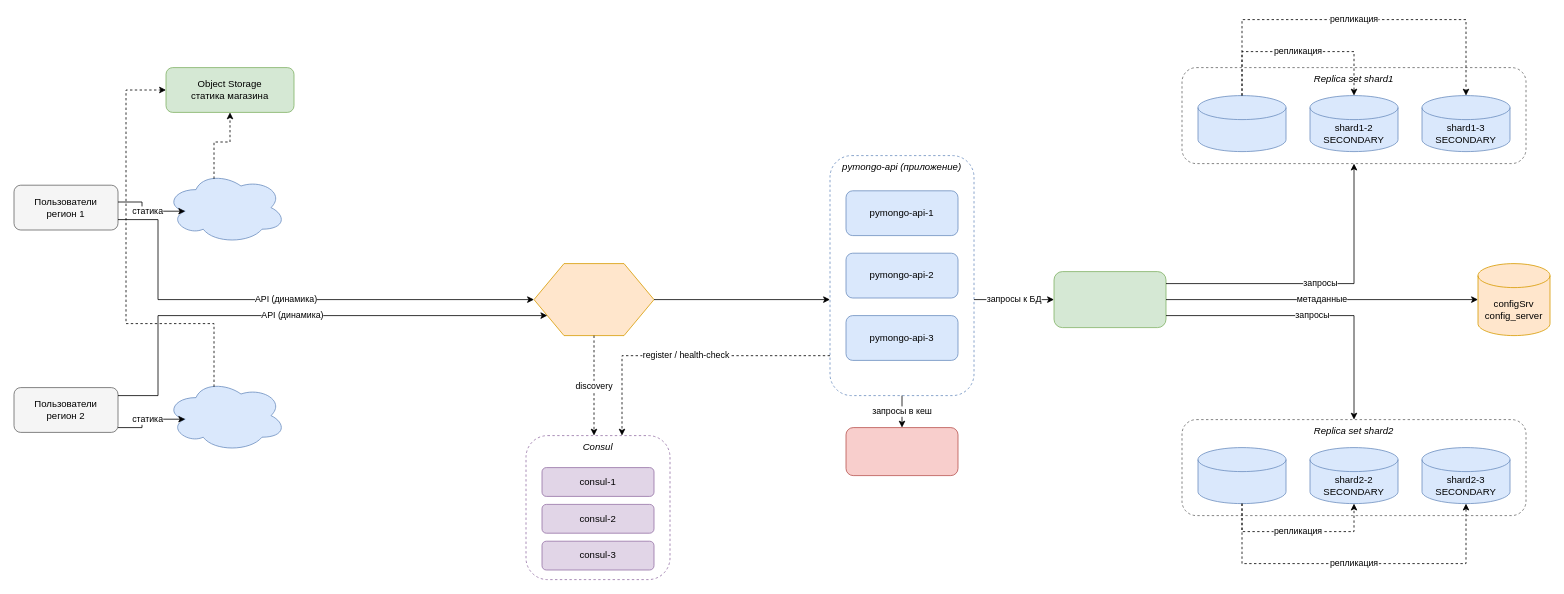
Some shapes in this 1564 by 594 pixel diagram are drawn without their labels. Each missing label, with the centre of its shape:
"API Gateway балансировка" goes at (593,299).
"CDN регион 1" goes at (225,207).
"CDN регион 2" goes at (225,415).
"mongos роутер запросов" goes at (1109,299).
"redis кеш" goes at (901,451).
"shard1-1 PRIMARY" goes at (1241,123).
"shard2-1 PRIMARY" goes at (1241,475).
